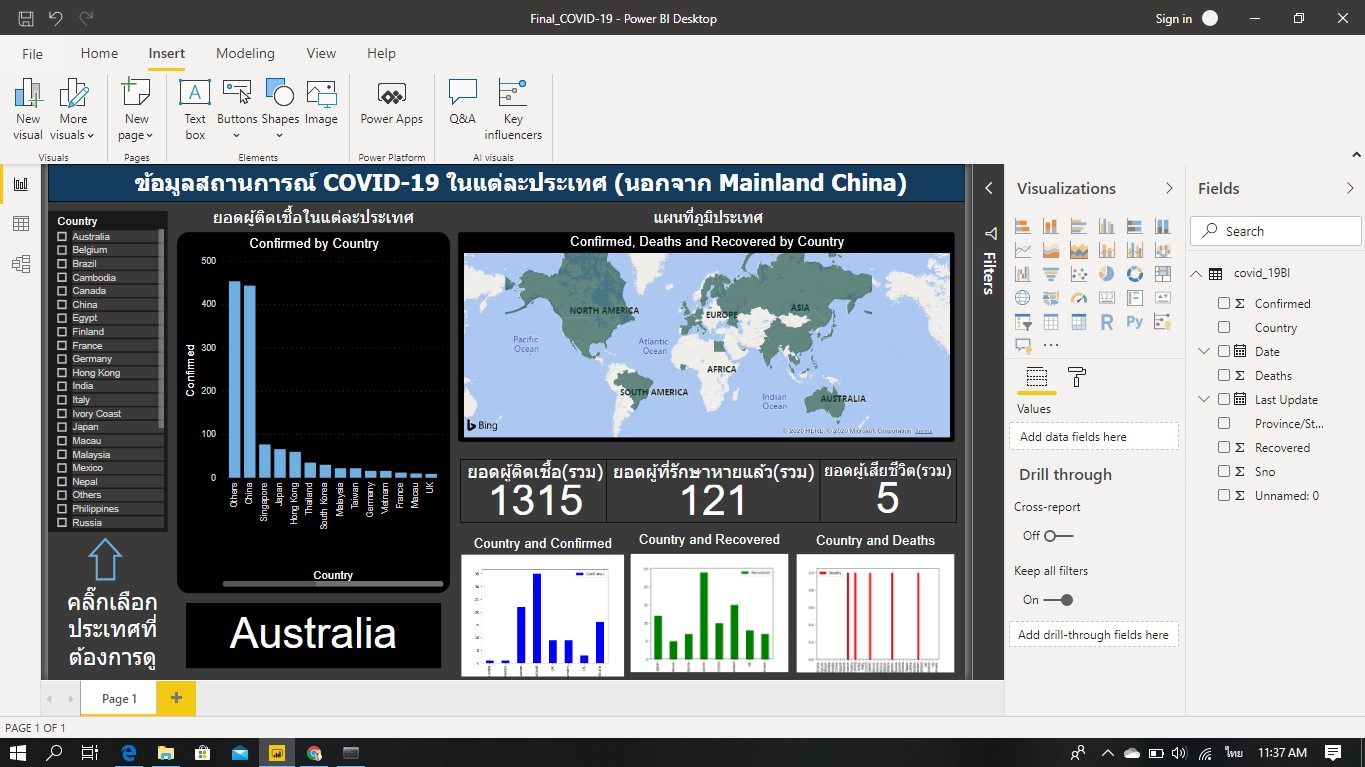

What the dashboard file says about the page in this screenshot:
{"tool":"powerbi","page":{"name":"Page 1","canvas":[1280,720],"ordinal":0},"visuals":[{"type":"pythonVisual","fields":{"Values":["covid_19BI.Country","covid_19BI.Confirmed"]},"box":[572.1,518.4,236.5,201.3],"z":0},{"type":"textbox","box":[0,0,1279.5,53],"z":1000},{"type":"pythonVisual","fields":{"Values":["covid_19BI.Country","covid_19BI.Recovered"]},"box":[808.6,513.3,229.8,204.7],"z":2000},{"type":"card","title":"ยอดผู้ติดเชื้อ","fields":{"Values":["Sum(covid_19BI.Confirmed)"]},"box":[574.9,411.6,207.9,101.9],"z":3000},{"type":"card","title":"ยอดผู้เสียชีวิต","fields":{"Values":["Sum(covid_19BI.Deaths)"]},"box":[1073,411.6,195.3,101.9],"z":4000},{"type":"card","title":"ยอดผู้ที่รักษาหายแล้ว","fields":{"Values":["Sum(covid_19BI.Recovered)"]},"box":[778.6,411.6,298.6,101.9],"z":5000},{"type":"filledMap","fields":{"Category":["covid_19BI.Country"]},"box":[572.1,65.6,693.5,322.3],"z":6000},{"type":"slicer","fields":{"Values":["covid_19BI.Country"]},"box":[0,65.4,167.8,654.3],"z":7000},{"type":"card","fields":{"Values":["Min(covid_19BI.Country)"]},"box":[192.9,612.3,355.6,90.6],"z":8000},{"type":"clusteredColumnChart","fields":{"Category":["covid_19BI.Country"],"Y":["Sum(covid_19BI.Confirmed)","Sum(covid_19BI.Recovered)","Sum(covid_19BI.Deaths)"]},"box":[180,65.6,380.9,533],"z":9000},{"type":"pythonVisual","fields":{"Values":["covid_19BI.Country","covid_19BI.Deaths"]},"box":[1040.1,515,229.8,203],"z":10000}]}

Visuals, with their boxes on the page's 1280x720 design canvas (x1, y1, x2, y2). These are canvas units, not pixel positions in the 1365x767 screenshot, which may show the page scaled, cropped or inside an application window:
pythonVisual - covid_19BI.Country x covid_19BI.Confirmed: [572, 518, 809, 720]
textbox: [0, 0, 1280, 53]
pythonVisual - covid_19BI.Country x covid_19BI.Recovered: [809, 513, 1038, 718]
"ยอดผู้ติดเชื้อ" card: [575, 412, 783, 514]
"ยอดผู้เสียชีวิต" card: [1073, 412, 1268, 514]
"ยอดผู้ที่รักษาหายแล้ว" card: [779, 412, 1077, 514]
filledMap - covid_19BI.Country: [572, 66, 1266, 388]
slicer - covid_19BI.Country: [0, 65, 168, 720]
card - Min(covid_19BI.Country): [193, 612, 548, 703]
clusteredColumnChart - covid_19BI.Country x Sum(covid_19BI.Confirmed): [180, 66, 561, 599]
pythonVisual - covid_19BI.Country x covid_19BI.Deaths: [1040, 515, 1270, 718]
